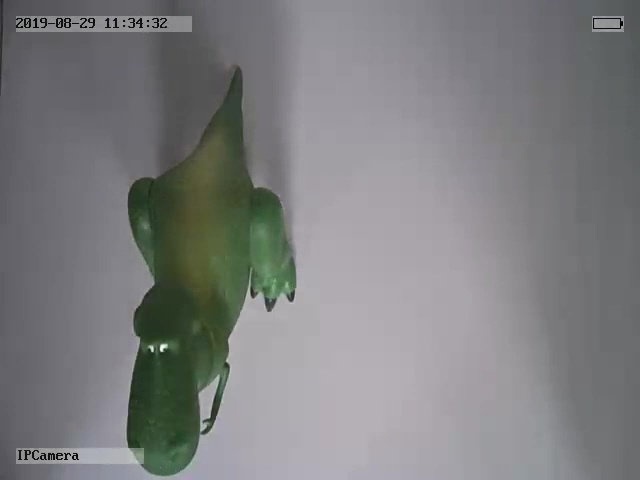rex: (123, 66, 299, 478)
